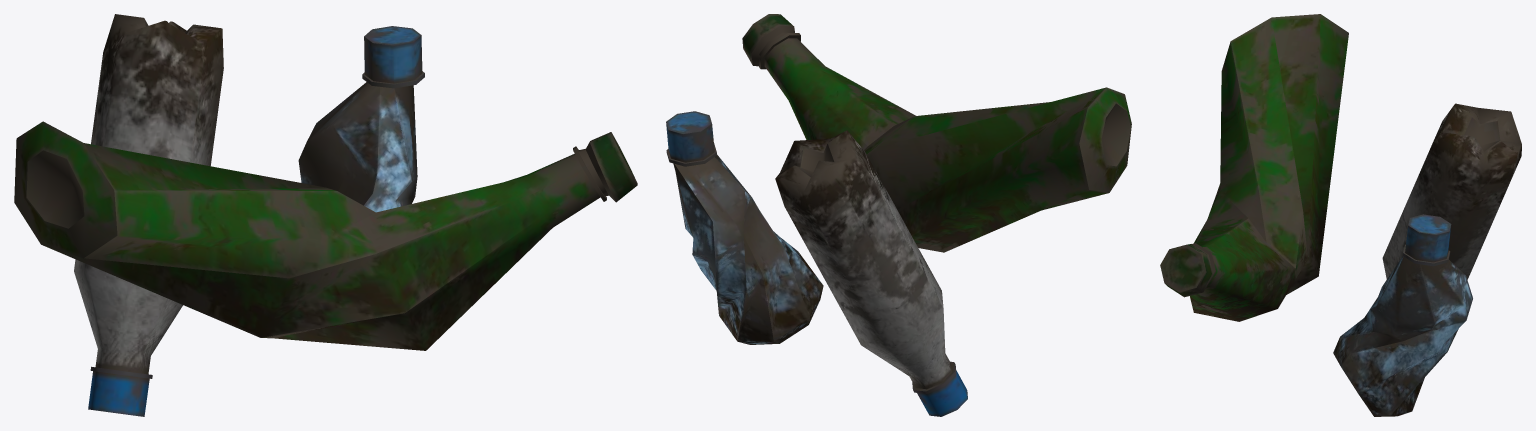
Rendered from plastic_bottle.glb.
The picture shows the model from 3 angles, left to right: view 1: azimuth 30°, elevation 25°; view 2: azimuth 150°, elevation 25°; view 3: azimuth 270°, elevation 25°; orthographic projection. The views are drawn at different scales.
Visible parts, largest first — view 1: Plastic_Bottle_01_GEO; view 2: Plastic_Bottle_01_GEO; view 3: Plastic_Bottle_01_GEO.
Boxes of the visible parts, x1,y1,x2,y2 form: Plastic_Bottle_01_GEO: (14,14,637,416); Plastic_Bottle_01_GEO: (666,14,1131,416); Plastic_Bottle_01_GEO: (1160,14,1521,416).
Bounding box in the file's own units: 0.4811 × 0.3224 × 0.373.
1 material, 1 textured.
